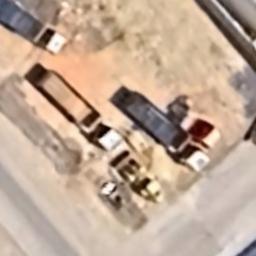others: (116, 161, 166, 204)
truck: (34, 70, 125, 156), (122, 92, 211, 174), (0, 0, 69, 55)
